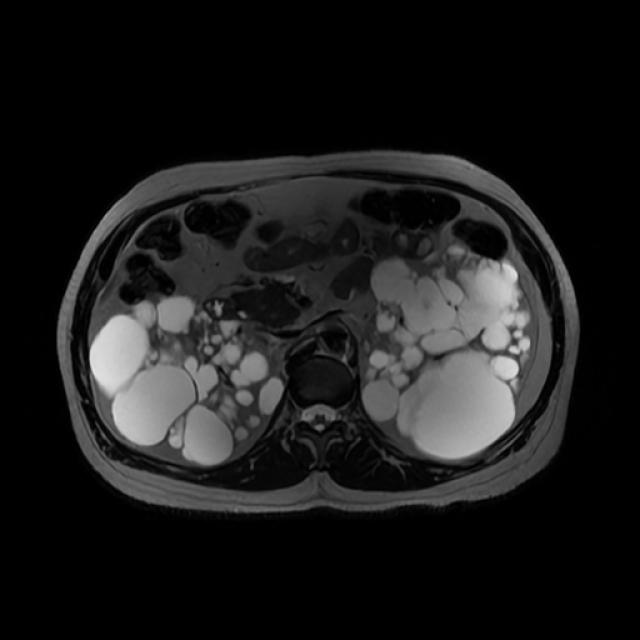sag: (88, 294, 286, 468)
sol: (362, 240, 534, 458)
